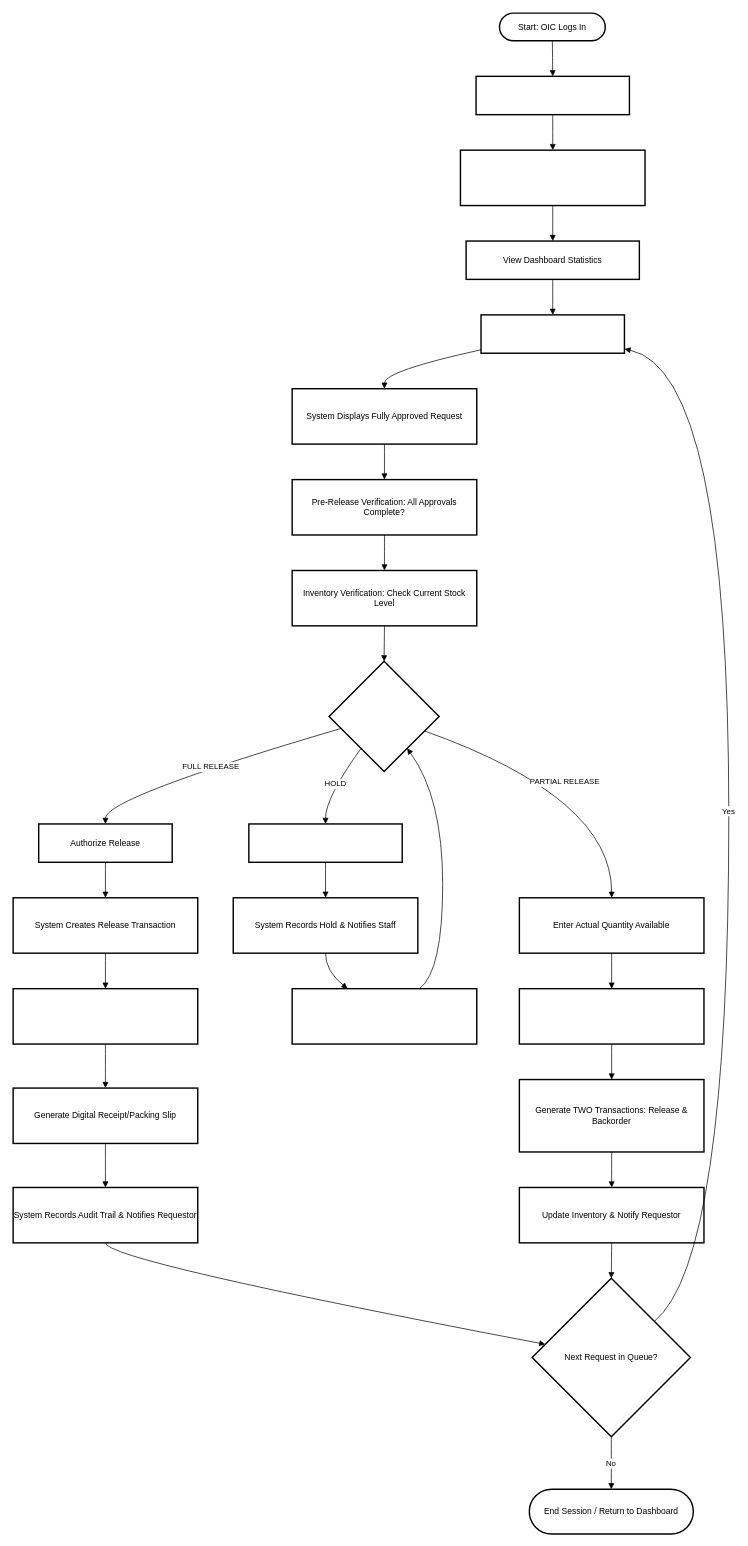
The diagram is 748 pixels wide and 1546 high, and some of its shapes have lost their labels. Each missing label, with the centre of its shape:
"Access OIC Dashboard" belongs at point (552, 95).
"Add Note Regarding Backorder" belongs at point (611, 1016).
"Decision Point" belongs at point (383, 716).
"Enter Reason for Hold" belongs at point (325, 843).
"Resolve Hold: Restock/Verify" belongs at point (384, 1016).
"Select First Request" belongs at point (552, 334).
"System Auto-Loads Release Queue" belongs at point (552, 177).
"System Automatically Updates Inventory" belongs at point (105, 1016).
